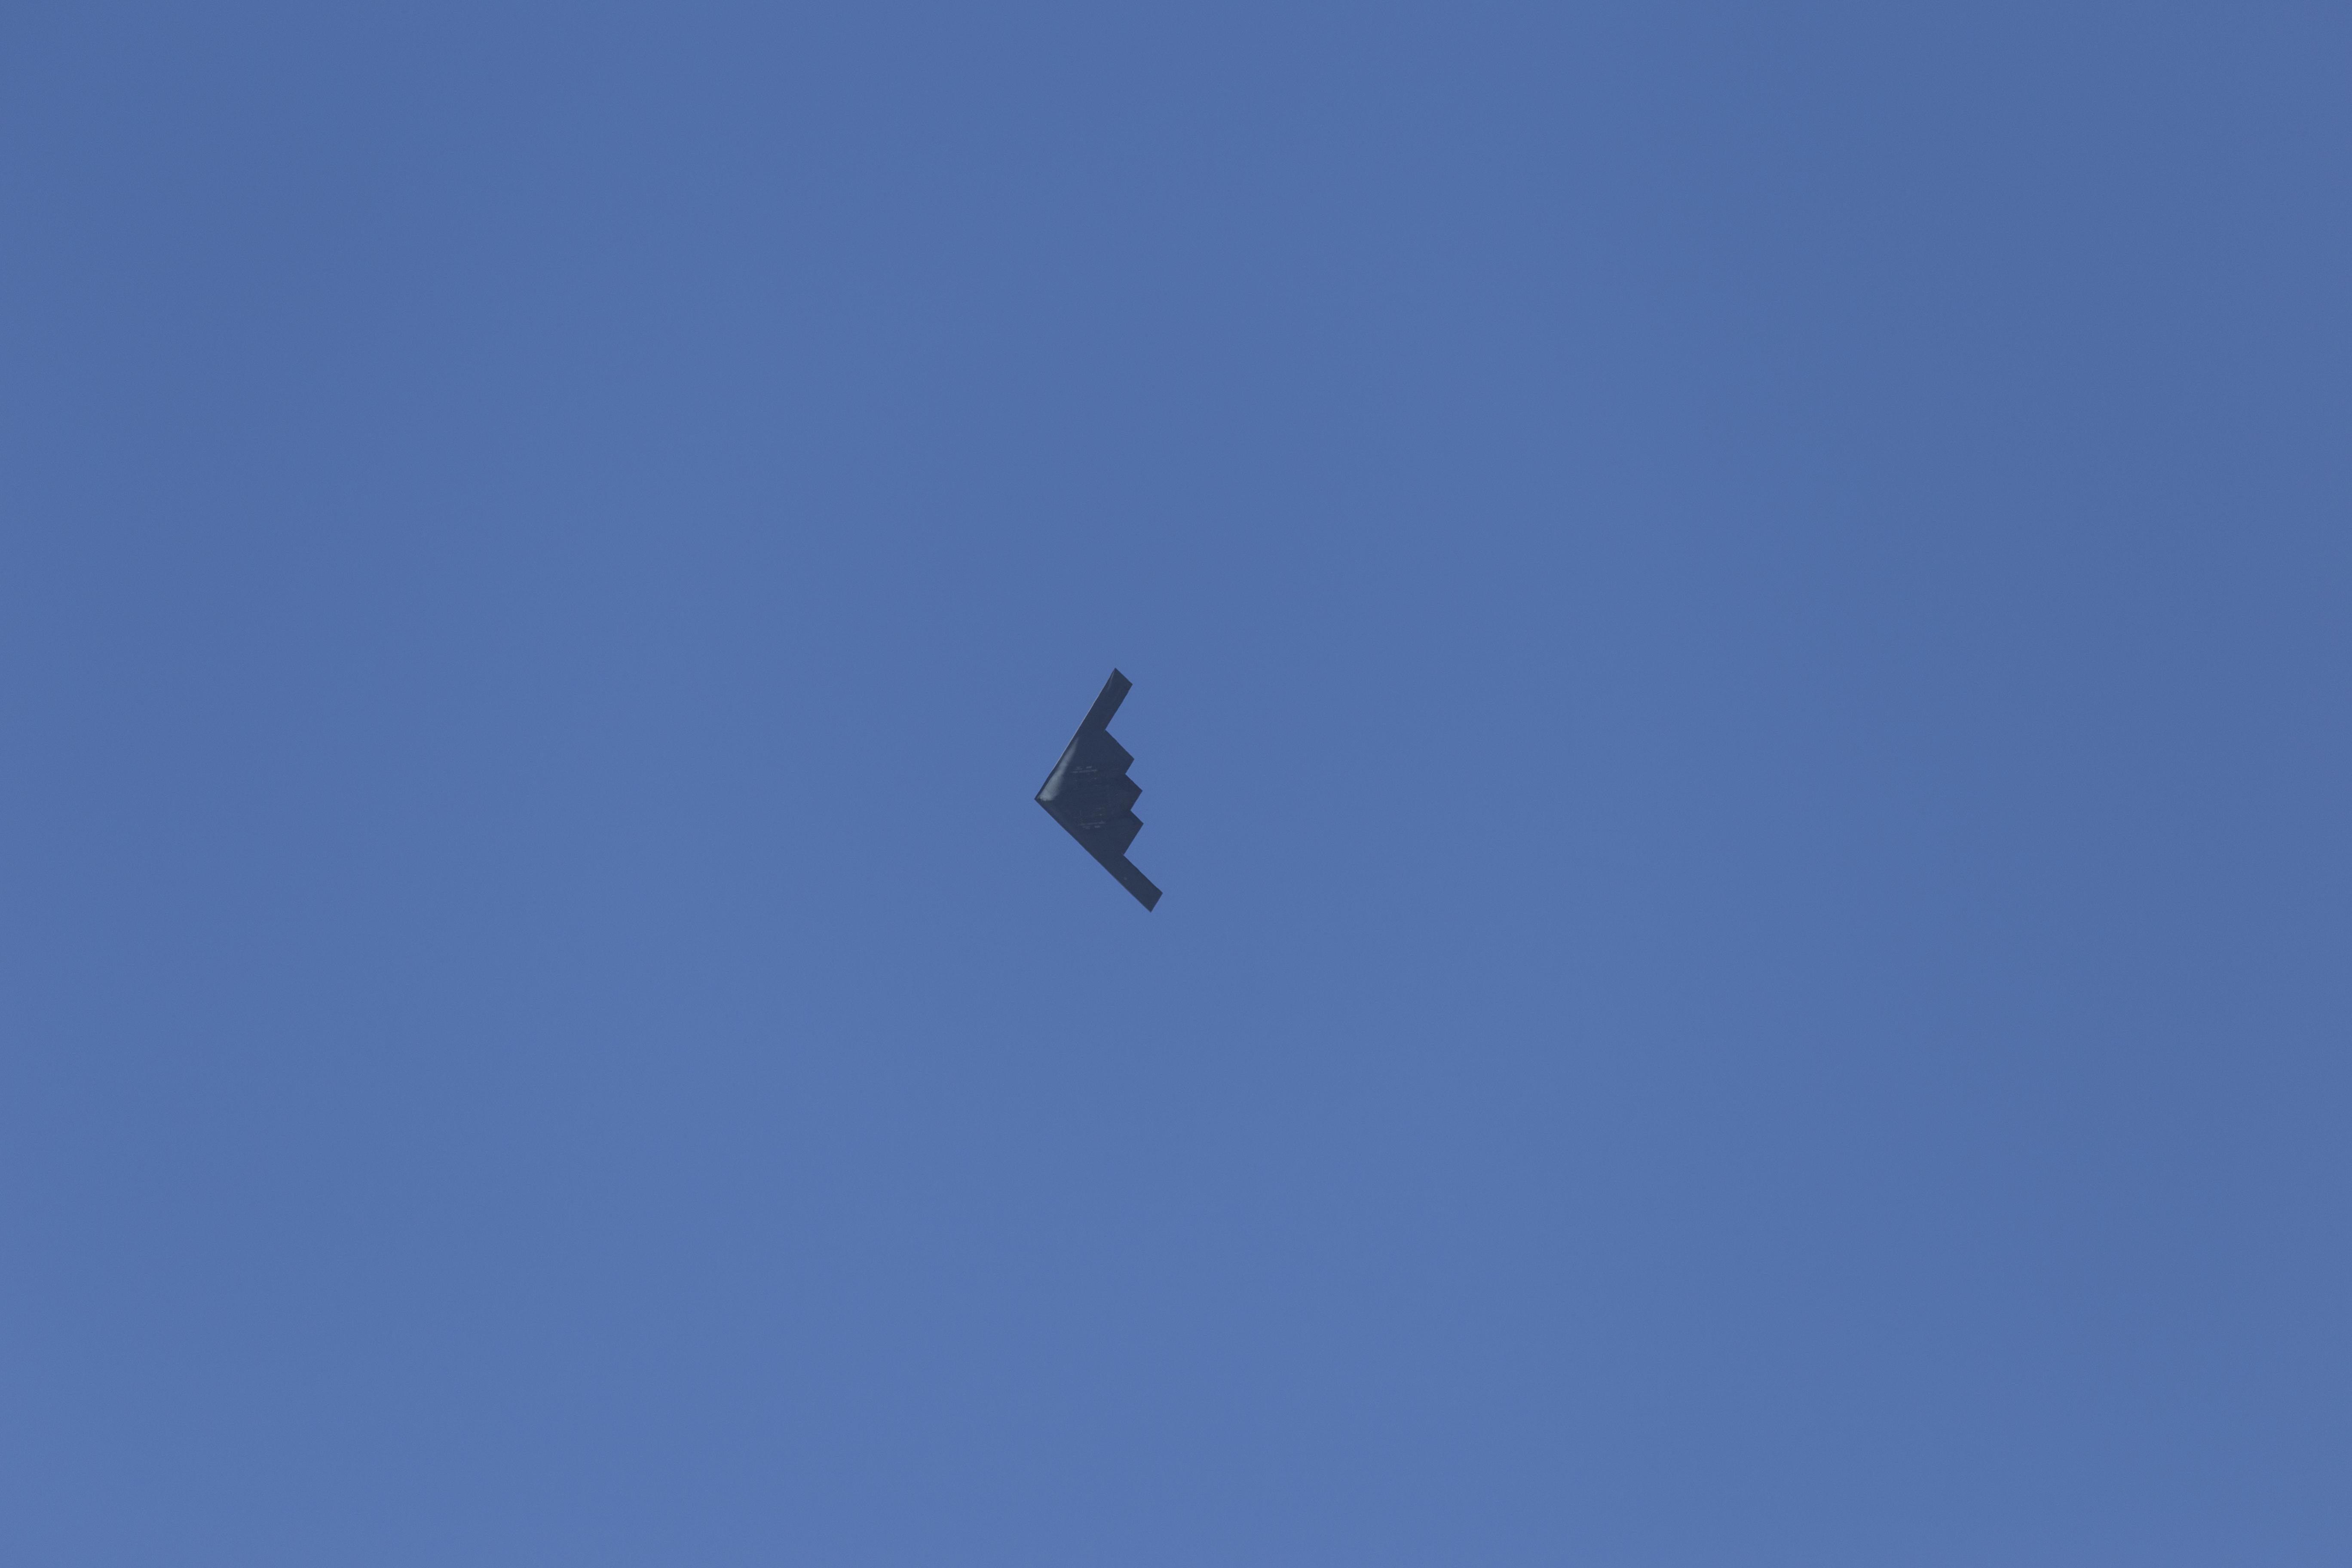B2: (1034, 667, 1162, 913)
